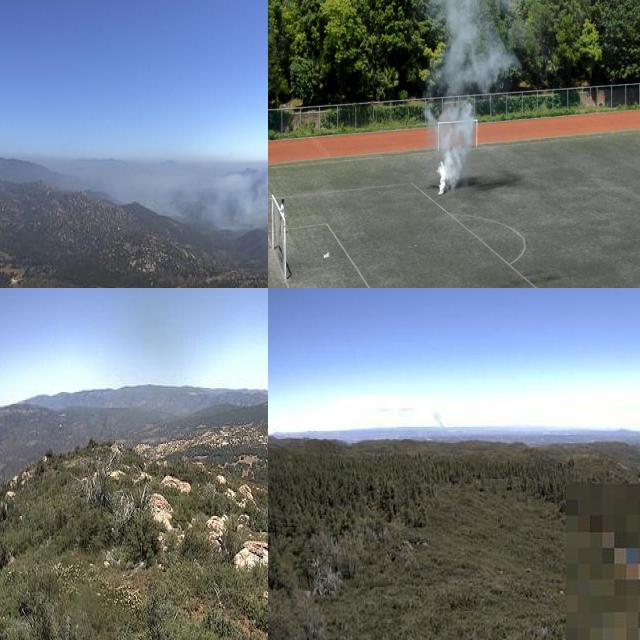smoke: (423, 0, 518, 190), (143, 160, 268, 236), (426, 406, 446, 430)
